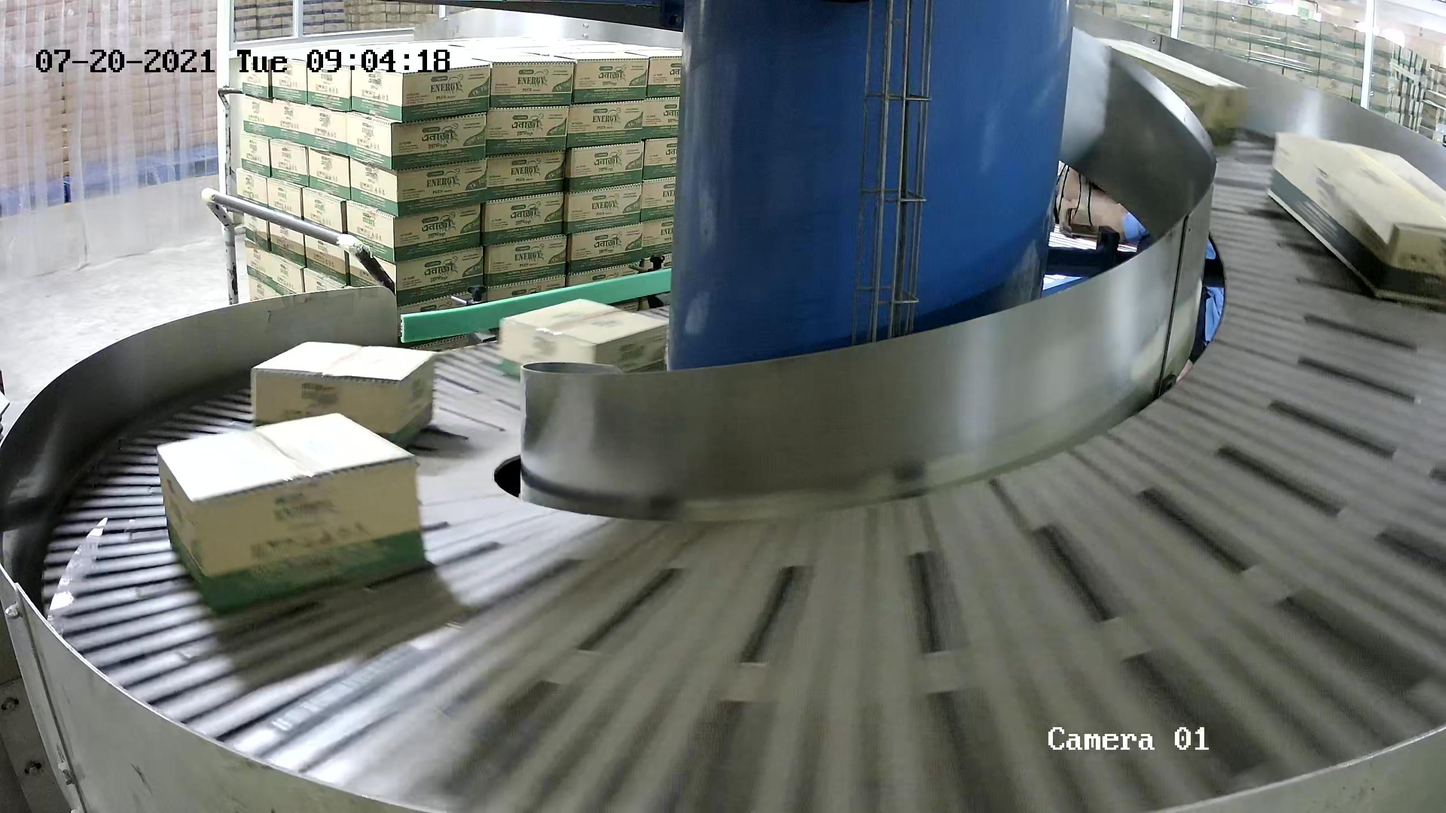Box: (158, 411, 429, 613), (1267, 131, 1446, 311), (248, 339, 436, 447), (1083, 37, 1245, 150), (498, 299, 667, 397)
